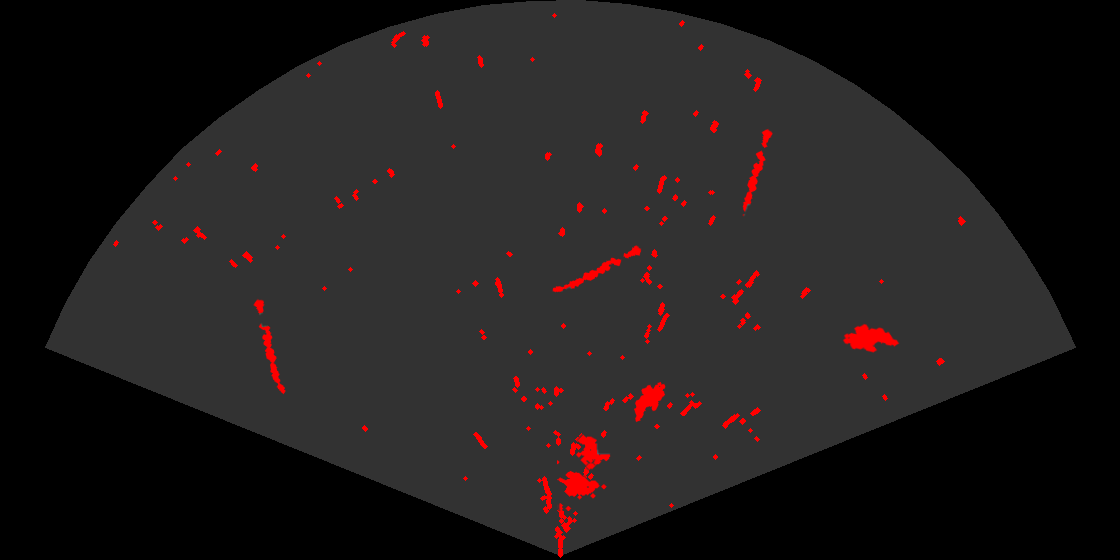AUV: (841, 322, 901, 354), (632, 380, 667, 424)
cage: (557, 433, 612, 511)
chain: (551, 244, 643, 294), (252, 297, 287, 396), (741, 127, 774, 217)
